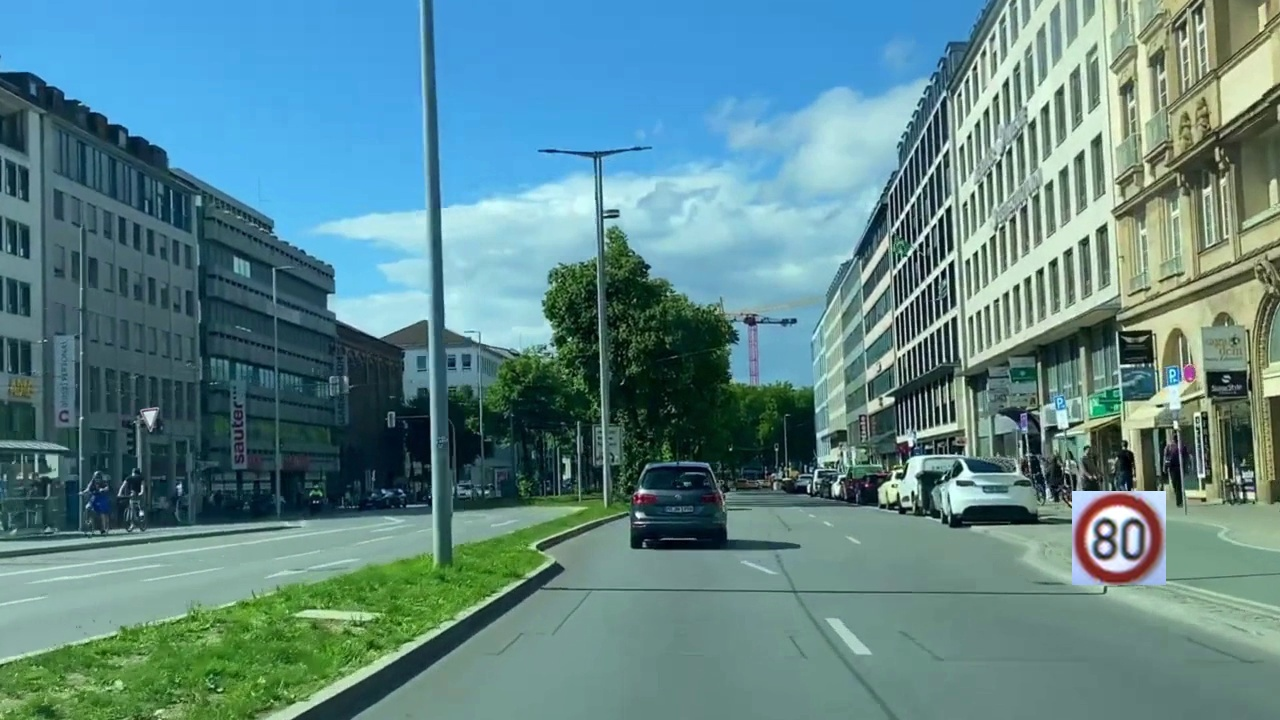Speed 80: (1072, 491, 1166, 585)
